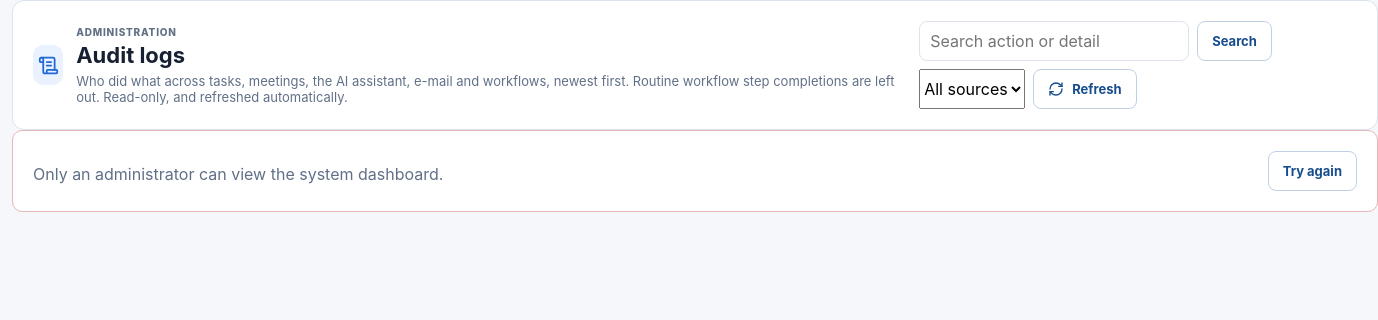
Test: AuditLogsPage › shows an error with a retry when the first load fails
Expected: the message shows "Only an administrator", [33, 164, 443, 184]
Click the button "Try again".
click(1312, 171)  # box [1268, 151, 1357, 191]
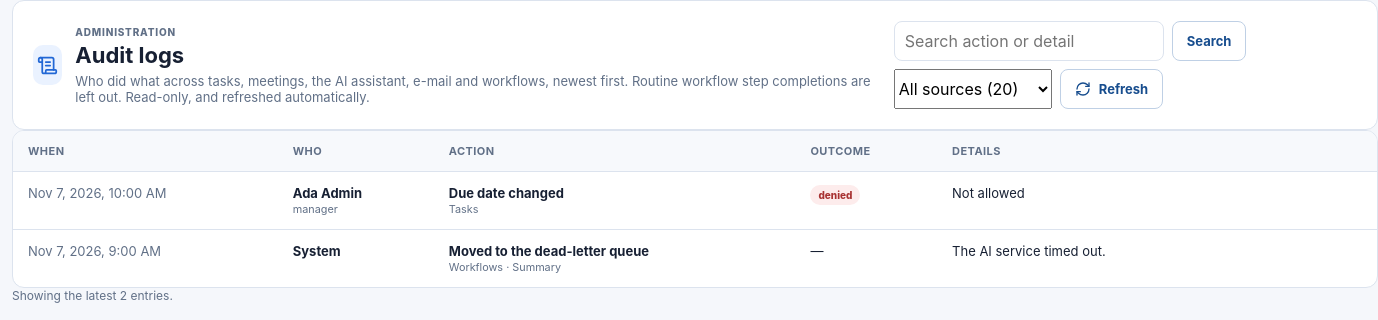
Expected: the table named "Audit entries" is shown, [13, 131, 1377, 287]
